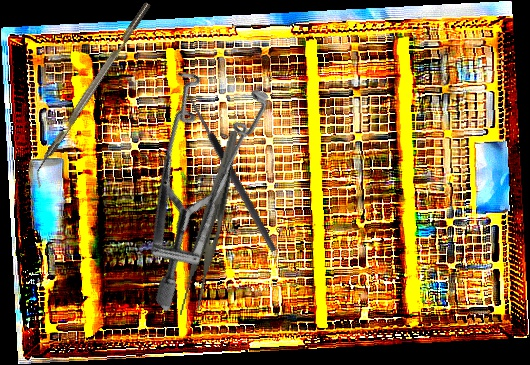Chopper: (25, 1, 160, 189)
Dressing Forceps: (176, 126, 240, 320)
Hook Surgical: (172, 84, 279, 258)
Speculum: (52, 38, 333, 314)
